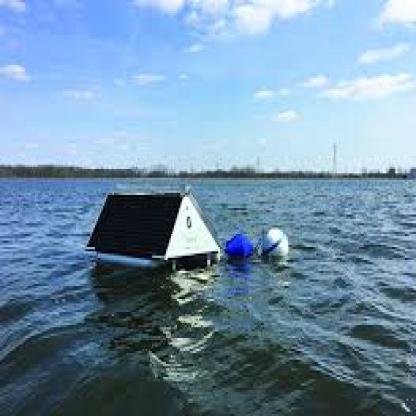buoy: (80, 184, 224, 273)
